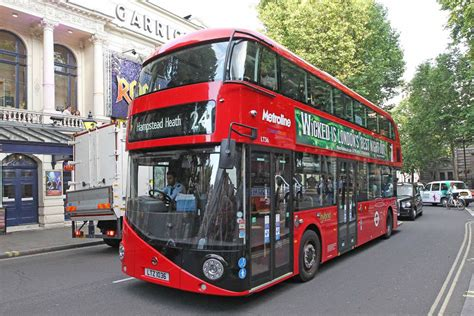bus: (132, 40, 400, 292)
